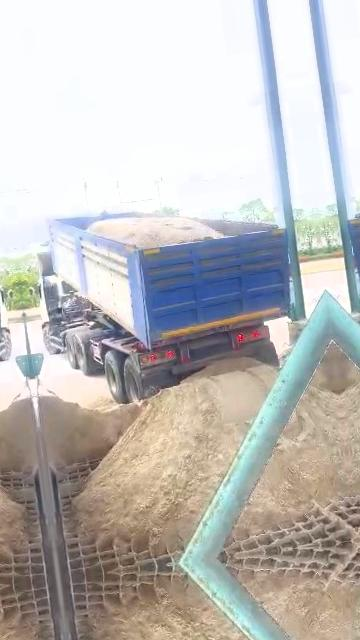sand: (76, 358, 276, 553), (235, 387, 352, 536), (39, 389, 140, 468), (88, 216, 223, 248), (312, 342, 339, 393)
